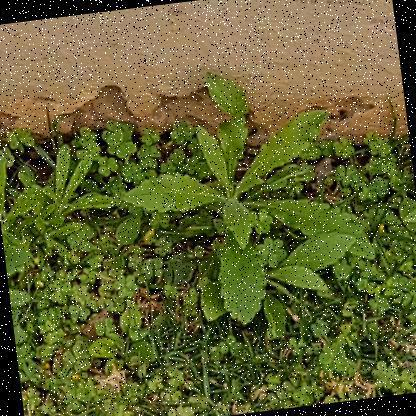Weeds: (110, 50, 388, 358), (15, 142, 123, 252)
